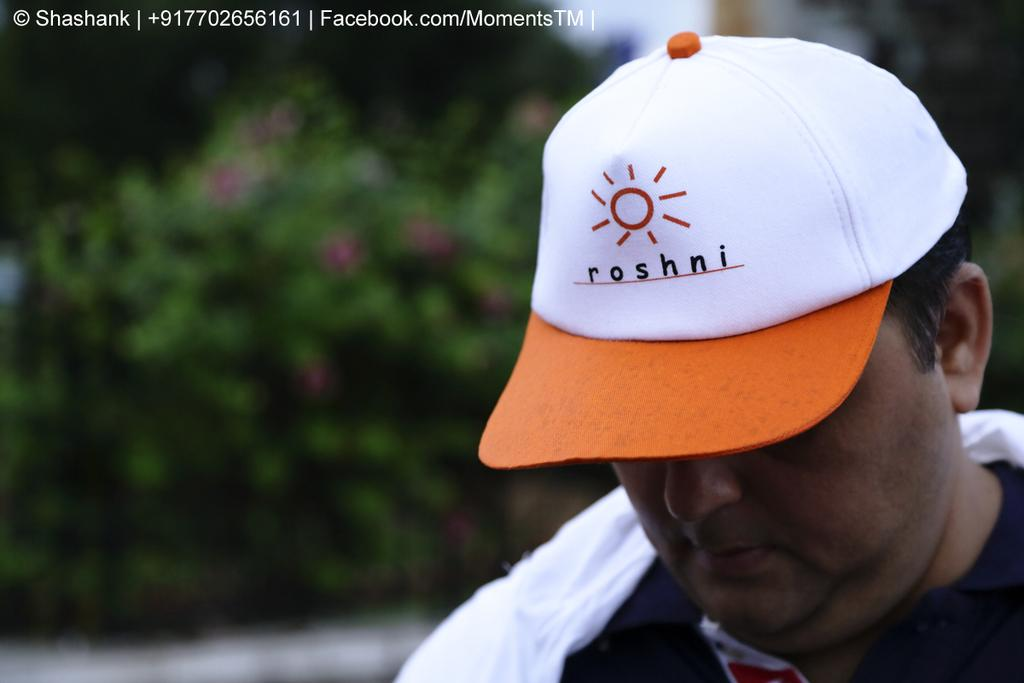Hat: (477, 30, 969, 471)
